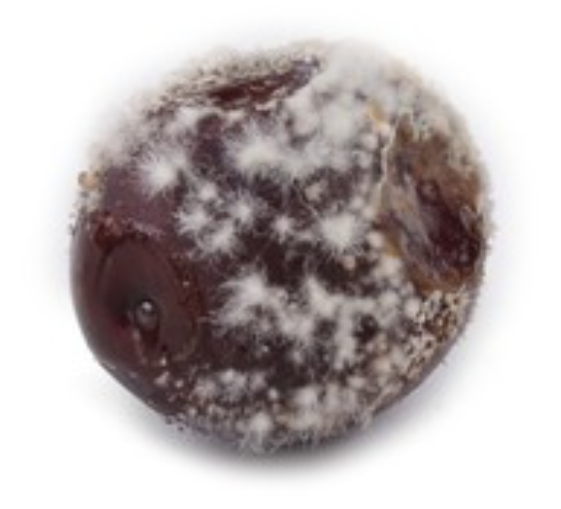plum_C: (70, 33, 491, 452)
